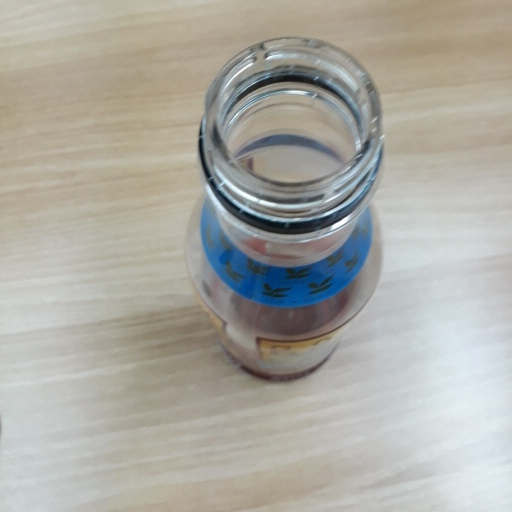Plastic_0: (186, 35, 390, 388)
